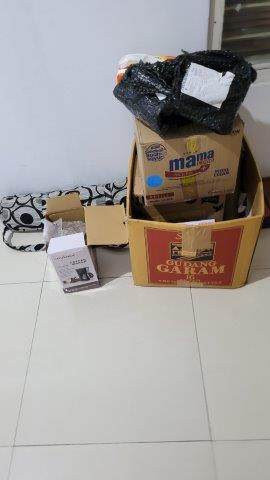kardus: (129, 116, 267, 289), (42, 196, 128, 295)
kertas: (177, 63, 233, 111)
